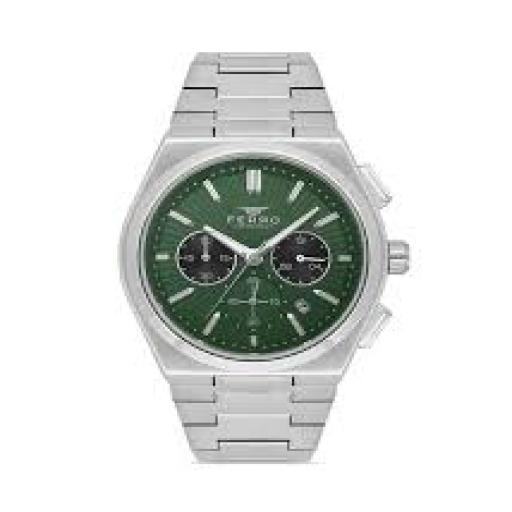KolSaati: (74, 28, 459, 502)
